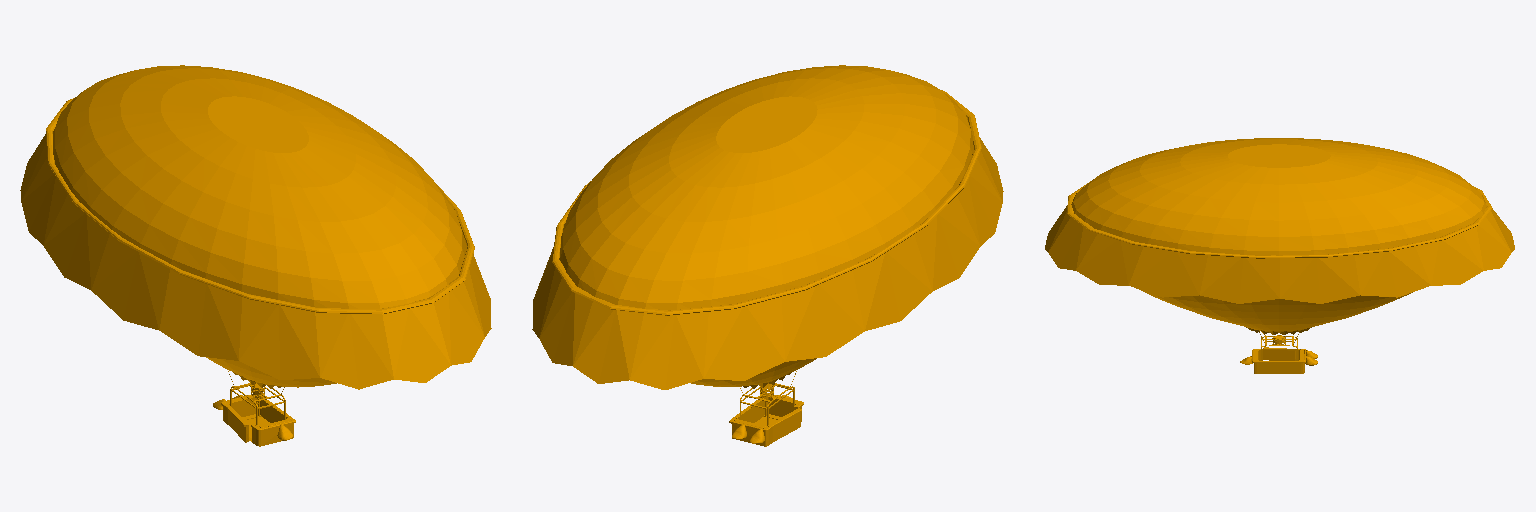
robot.urdf — mesh_object:
<robot name="mesh_object">
            <link name="base">
                <visual>
                    <geometry>
                        <mesh filename="balloon_3_v000.obj" scale="1 1 1" />
                    </geometry>
                </visual>
                <collision>
                    <geometry>
                        <mesh filename="balloon_3_v000.obj" scale="1 1 1" />
                    </geometry>
                </collision>
                <inertial>
                    <origin xyz="0.000000 0.000000 0.049849" rpy="0 0 0" />
                    <mass value="0.500000" />
                    <inertia ixx="0.01" iyy="0.01" izz="0.01" ixy="0" ixz="0" iyz="0" />
                </inertial>
            </link>
            </robot>

--- Render facts (derived) ---
The picture shows the robot from 3 angles, left to right: view 1: azimuth 30°, elevation 25°; view 2: azimuth 150°, elevation 25°; view 3: azimuth 270°, elevation 25°; orthographic projection.
Model mesh_object with 1 links and 0 joints (none), rooted at base, posed every joint at zero.
Visible links, largest first — view 1: base; view 2: base; view 3: base.
Boxes of the visible links, x1,y1,x2,y2 form: base: (20,65,491,446); base: (532,65,1003,446); base: (1045,138,1514,373).
Size in the robot's own frame: 0.0564 by 0.1005 by 0.0498 metres.
1 mesh visuals loaded from 1 distinct referenced files (1 OBJ).
